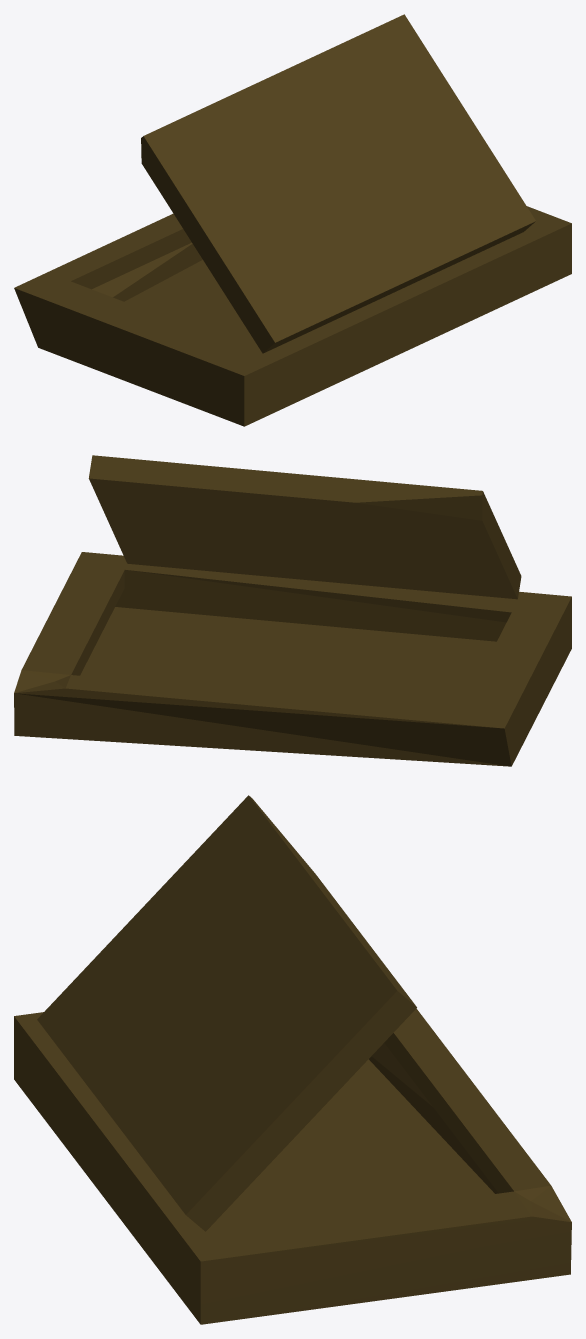
3 views of the same model, one above another, from view 1: azimuth 30°, elevation 25°; view 2: azimuth 150°, elevation 25°; view 3: azimuth 270°, elevation 25° (orthographic). The views are drawn at different scales.
Parts seen in each view (by area): view 1: Cube; view 2: Cube; view 3: Cube.
Boxes of the visible parts, bbox=[...] form: Cube: bbox=[14, 14, 571, 426]; Cube: bbox=[14, 455, 571, 766]; Cube: bbox=[14, 795, 571, 1324].
Bounding box in the file's own units: 69.7 × 30.76 × 55.58.
